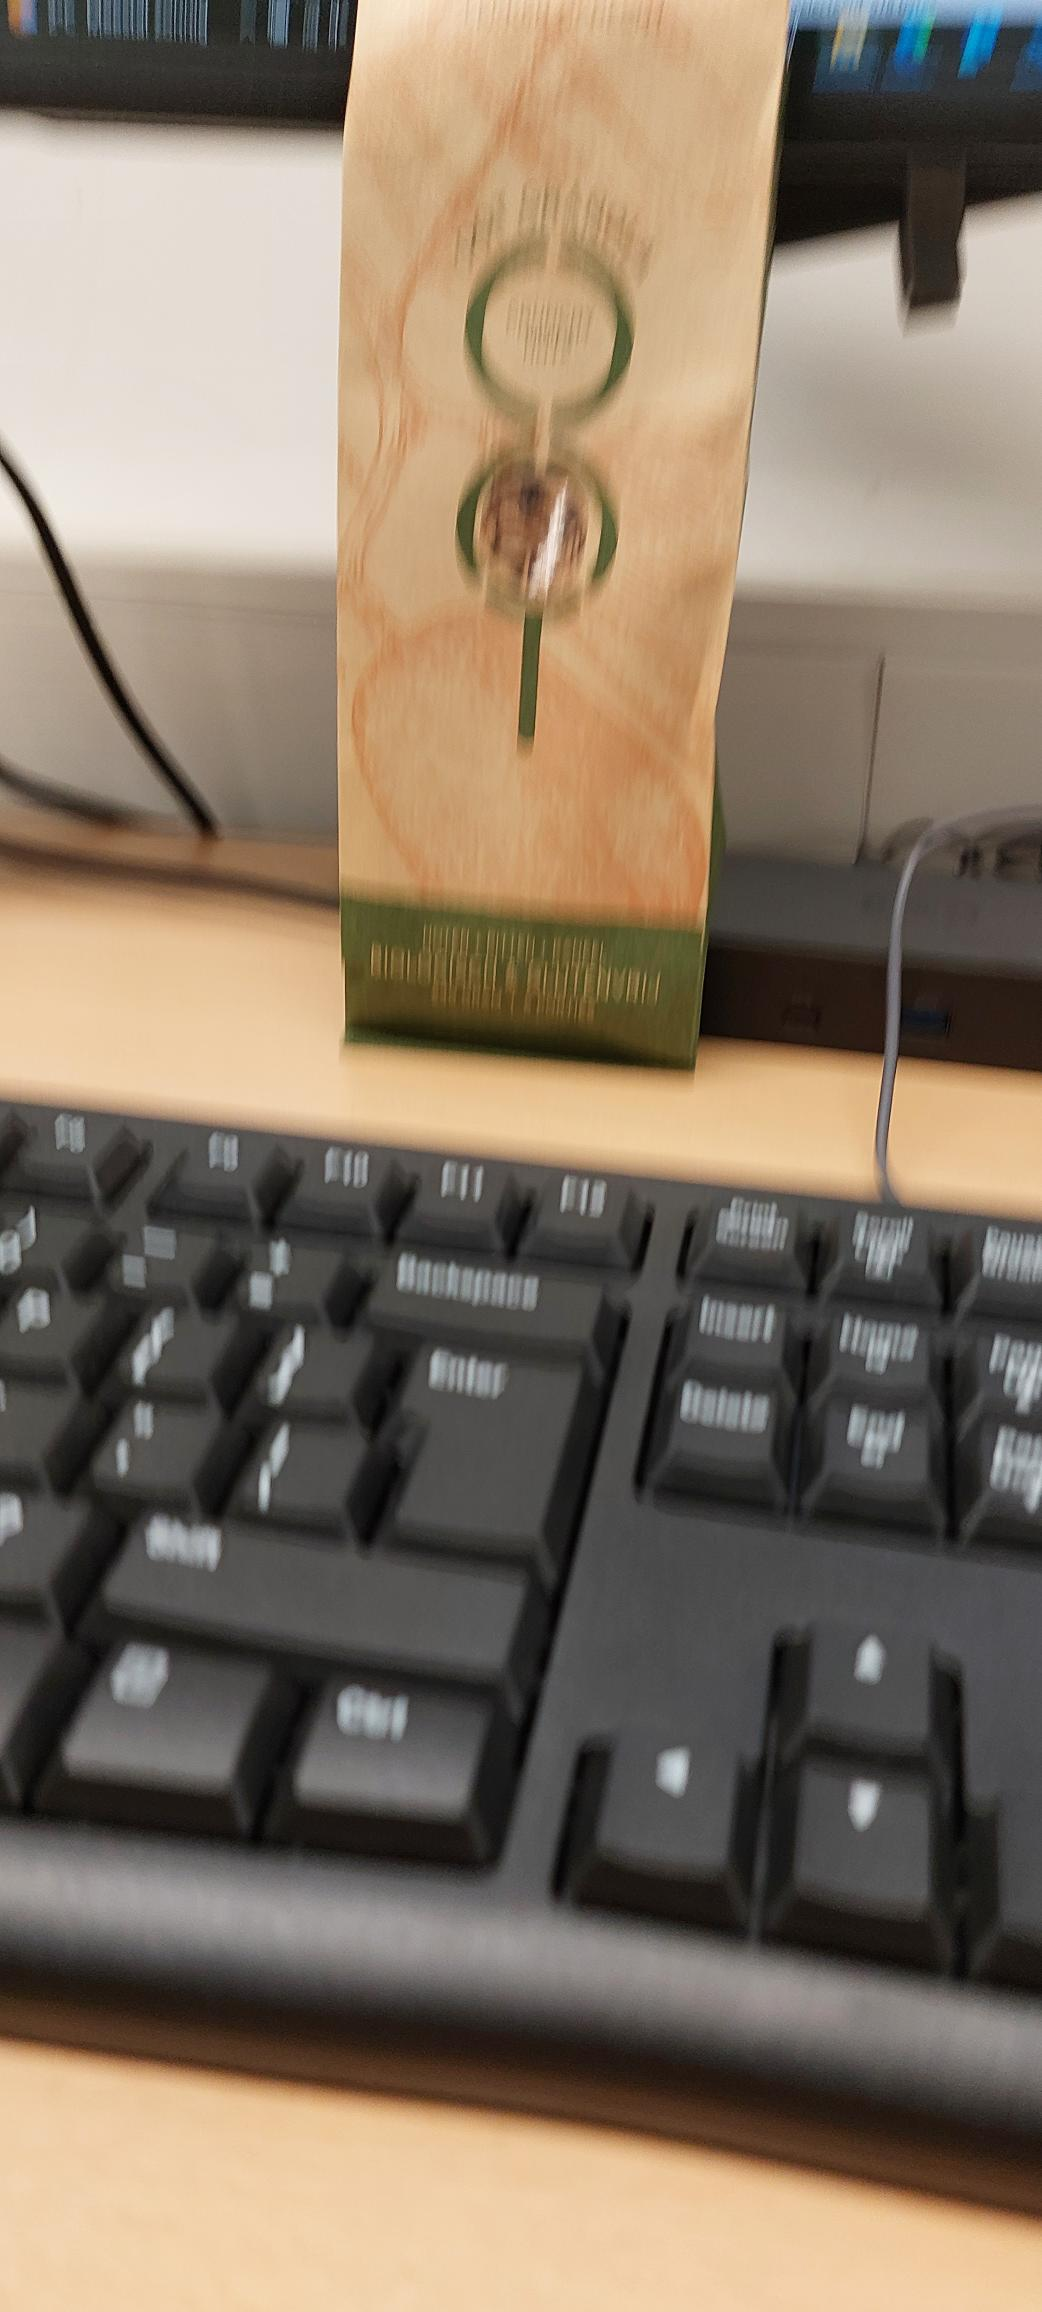CrunchyNuts: (367, 21, 684, 1037)
